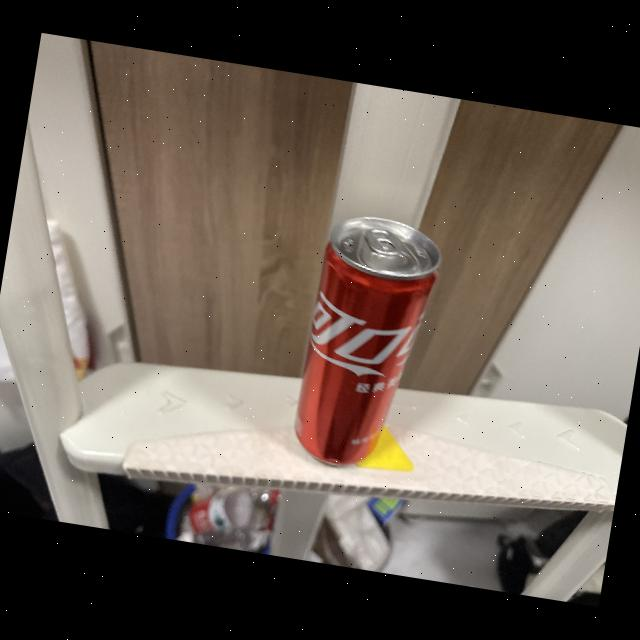Cola: (282, 204, 454, 484)
